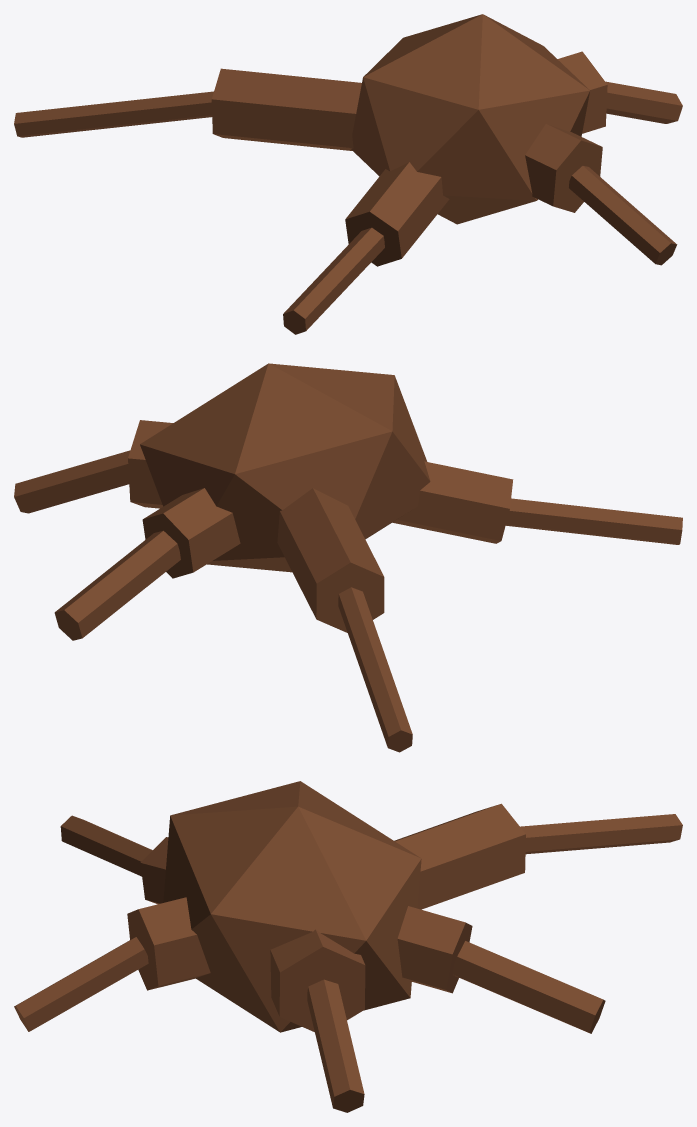
Rendered from root_cluster_d.glb.
3 views of the same model, one above another, from view 1: azimuth 30°, elevation 25°; view 2: azimuth 150°, elevation 25°; view 3: azimuth 270°, elevation 25° (orthographic). The views are drawn at different scales.
Visible parts, largest first — view 1: Root_Knot.003, Root_3_A.003, Root_4_A.003, Root_3_B.003, Root_5_A.003, Root_4_B.003, Root_5_B.003, Root_1_B.003, Root_1_A.003; view 2: Root_Knot.003, Root_3_A.003, Root_4_A.003, Root_2_B.003, Root_4_B.003, Root_2_A.003, Root_3_B.003, Root_1_B.003, Root_1_A.003; view 3: Root_Knot.003, Root_3_A.003, Root_1_A.003, Root_2_B.003, Root_5_A.003, Root_2_A.003, Root_3_B.003, Root_1_B.003, Root_5_B.003, Root_4_B.003, Root_4_A.003.
Boxes of the visible parts, x1=… form: Root_Knot.003: x1=351, y1=14, x2=590, y2=224; Root_3_A.003: x1=211, y1=68, x2=361, y2=150; Root_4_A.003: x1=345, y1=162, x2=449, y2=266; Root_3_B.003: x1=14, y1=91, x2=213, y2=137; Root_5_A.003: x1=525, y1=124, x2=602, y2=212; Root_4_B.003: x1=283, y1=227, x2=384, y2=334; Root_5_B.003: x1=569, y1=166, x2=677, y2=265; Root_1_B.003: x1=605, y1=81, x2=682, y2=123; Root_1_A.003: x1=557, y1=51, x2=607, y2=133; Root_Knot.003: x1=140, y1=363, x2=430, y2=572; Root_3_A.003: x1=277, y1=488, x2=384, y2=632; Root_4_A.003: x1=392, y1=461, x2=513, y2=543; Root_2_B.003: x1=54, y1=530, x2=180, y2=640; Root_4_B.003: x1=505, y1=498, x2=682, y2=544; Root_2_A.003: x1=142, y1=488, x2=240, y2=578; Root_3_B.003: x1=338, y1=587, x2=412, y2=752; Root_1_B.003: x1=14, y1=450, x2=130, y2=513; Root_1_A.003: x1=128, y1=420, x2=173, y2=508; Root_Knot.003: x1=163, y1=781, x2=421, y2=1032; Root_3_A.003: x1=394, y1=803, x2=525, y2=909; Root_1_A.003: x1=270, y1=929, x2=365, y2=1031; Root_2_B.003: x1=452, y1=941, x2=605, y2=1033; Root_5_A.003: x1=127, y1=897, x2=210, y2=990; Root_2_A.003: x1=397, y1=906, x2=472, y2=993; Root_3_B.003: x1=520, y1=814, x2=682, y2=854; Root_1_B.003: x1=307, y1=979, x2=364, y2=1112; Root_5_B.003: x1=14, y1=937, x2=148, y2=1031; Root_4_B.003: x1=60, y1=815, x2=152, y2=876; Root_4_A.003: x1=140, y1=837, x2=168, y2=904.
Bounding box in the file's own units: 2.06 × 0.7472 × 2.08.
